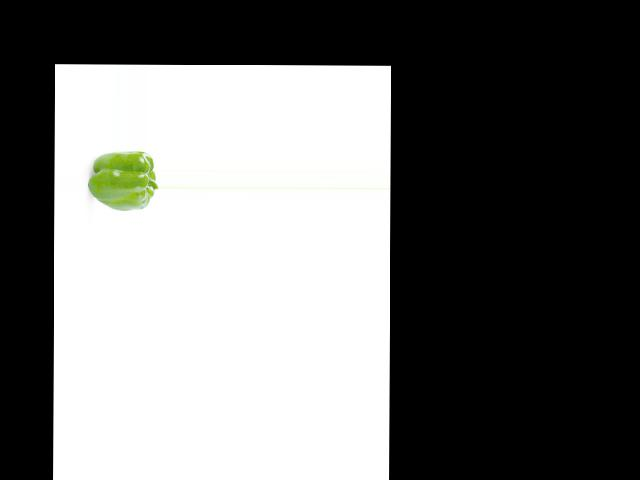bell_pepper: (90, 149, 157, 212)
